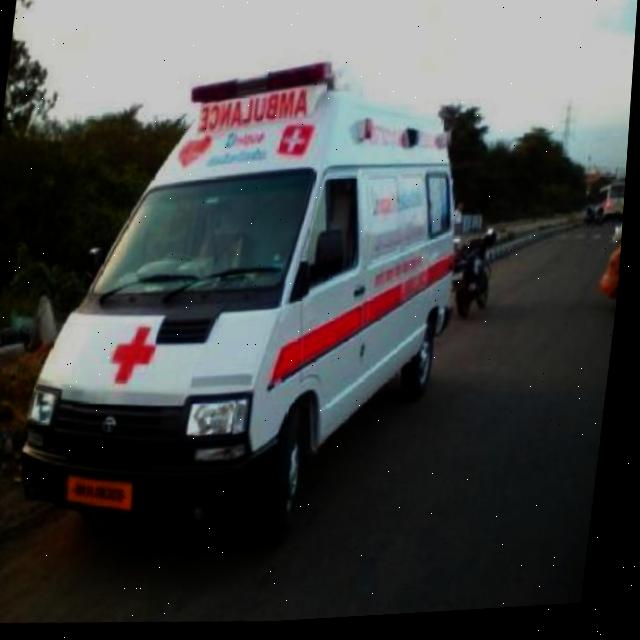emergency: (13, 42, 486, 567)
